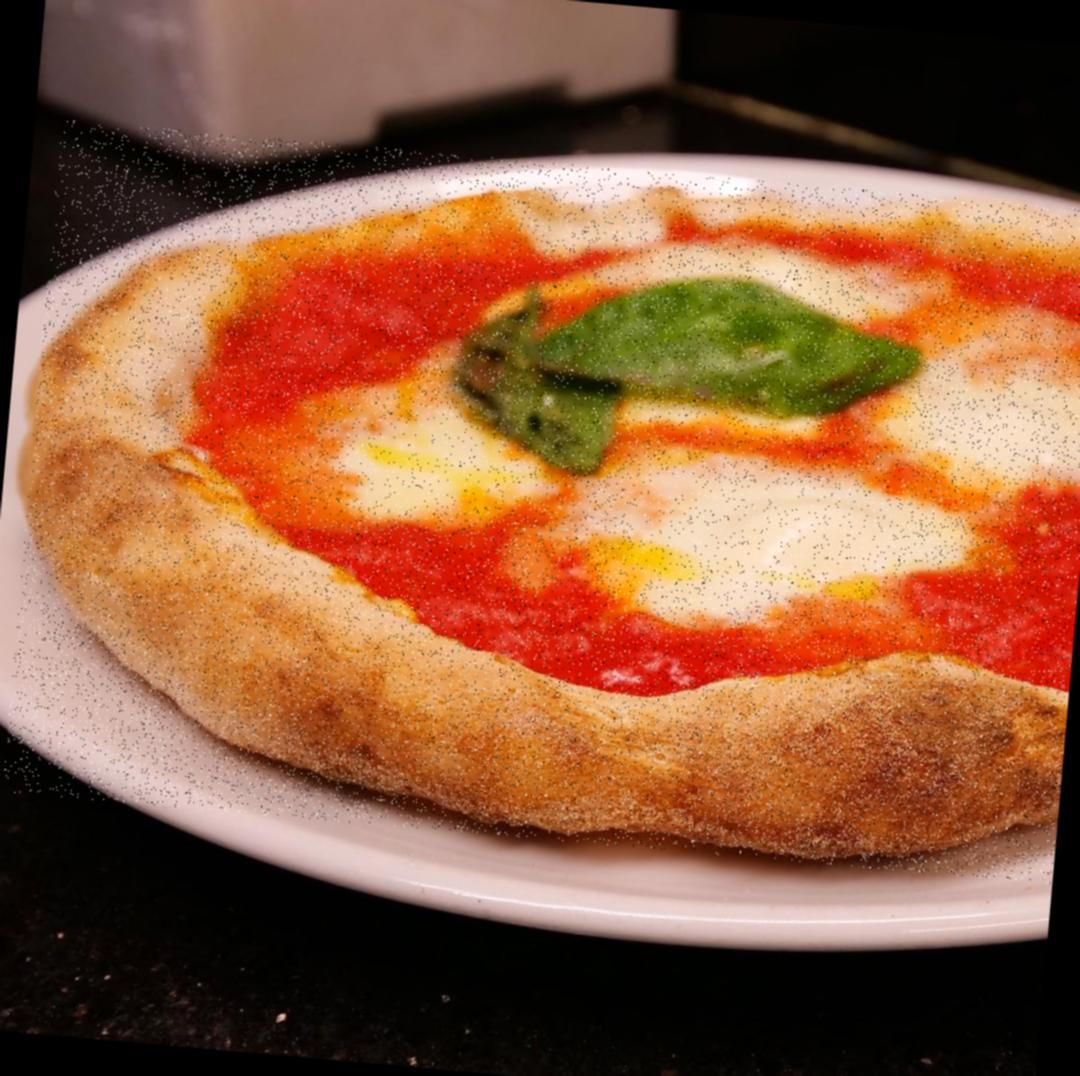Basil: (461, 273, 921, 470)
Cheese: (630, 473, 905, 583), (935, 347, 1080, 470), (346, 411, 493, 512), (696, 246, 844, 295)
Pizza: (2, 120, 1080, 884)
